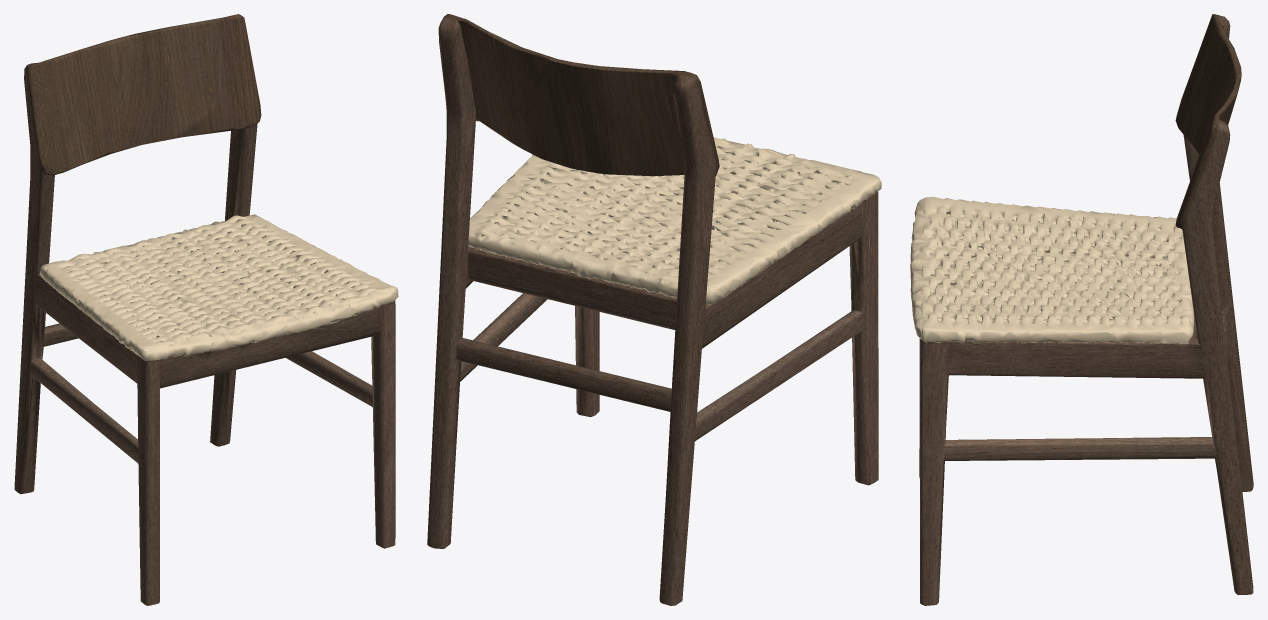
3 renders of one model, left to right at view 1: azimuth 30°, elevation 25°; view 2: azimuth 150°, elevation 25°; view 3: azimuth 270°, elevation 25°, orthographic. The views are drawn at different scales.
Parts seen in each view (by area): view 1: ASY_ART_70563242_S01_NV01; view 2: ASY_ART_70563242_S01_NV01; view 3: ASY_ART_70563242_S01_NV01.
Boxes of the visible parts, <box> form: ASY_ART_70563242_S01_NV01: <box>14,14,398,605</box>; ASY_ART_70563242_S01_NV01: <box>427,14,881,605</box>; ASY_ART_70563242_S01_NV01: <box>910,14,1253,605</box>.
Size of the model in its own units: 0.4834 by 0.7889 by 0.5196.
1 material, 1 textured.
